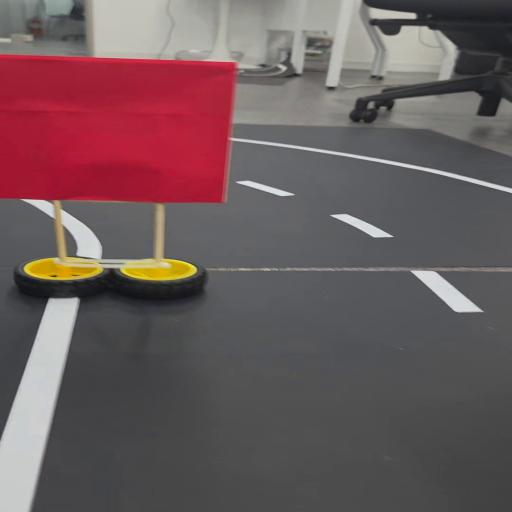Sign_A: (5, 57, 223, 294)
